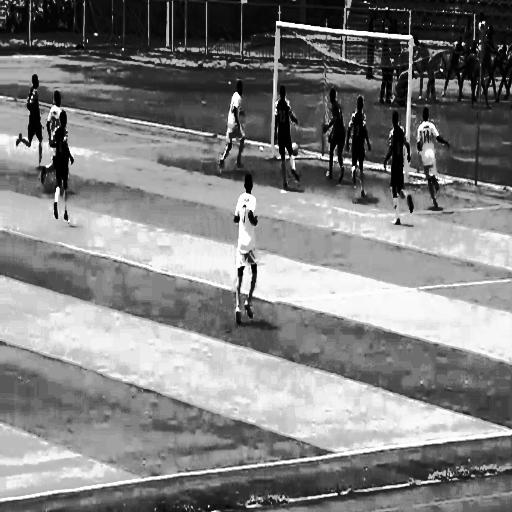ball: (290, 139, 304, 162)
keeper2: (320, 87, 351, 188)
team1: (232, 170, 262, 343), (413, 105, 456, 217), (212, 72, 249, 170), (48, 83, 63, 135)
team2: (376, 106, 416, 237), (344, 92, 376, 214), (270, 84, 305, 193), (15, 69, 45, 169), (48, 108, 72, 232)
